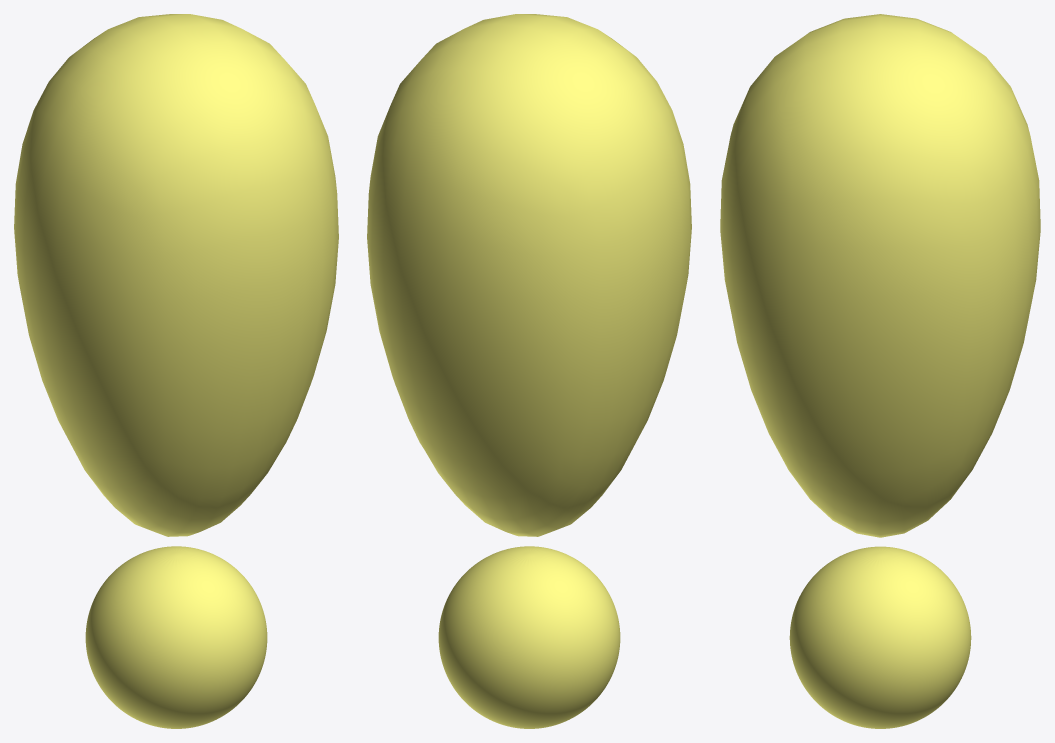
The model's file is exclamacion.fbx.
3 views of the same model, side by side, from view 1: azimuth 30°, elevation 25°; view 2: azimuth 150°, elevation 25°; view 3: azimuth 270°, elevation 25° (orthographic).
Parts seen in each view (by area): view 1: Cube; view 2: Cube; view 3: Cube.
Part boxes in pixels (<box>): Cube: <box>14,14,338,728</box>; Cube: <box>367,14,691,728</box>; Cube: <box>720,14,1040,728</box>.
Bounding box in the file's own units: 144 × 343 × 144.
